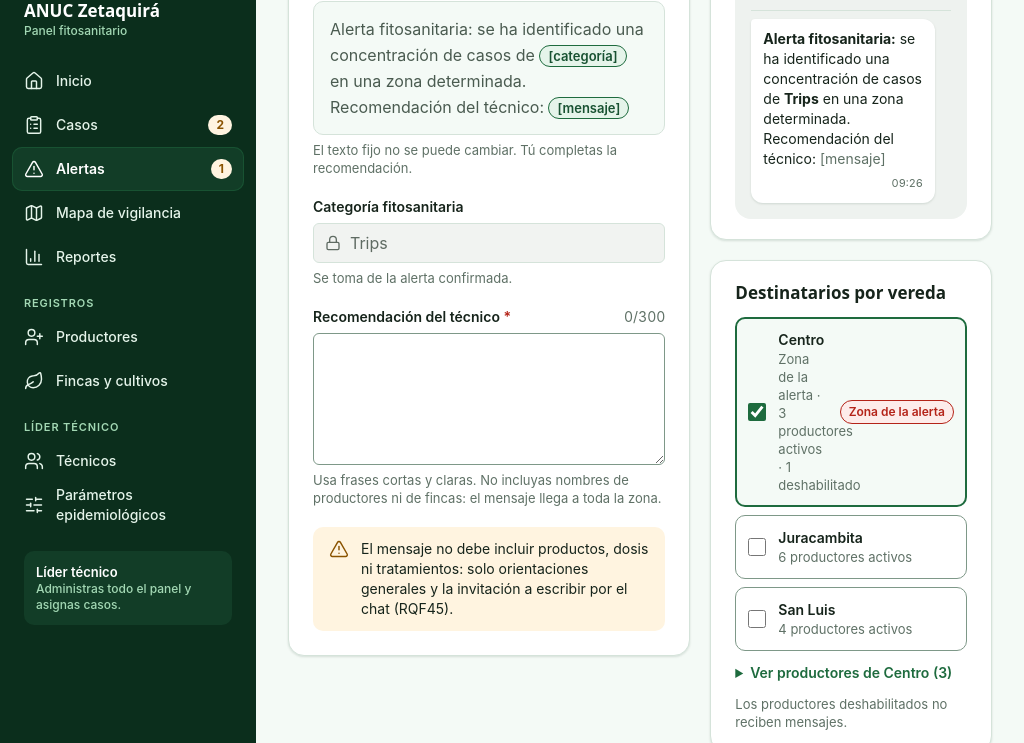
Mensaje a productores › pide la recomendación y no envía sin destinatarios
(page scrolled)
Step 1. Click the text box labelled "Recomendación del técnico *" → (489, 399), box [313,333,665,465]
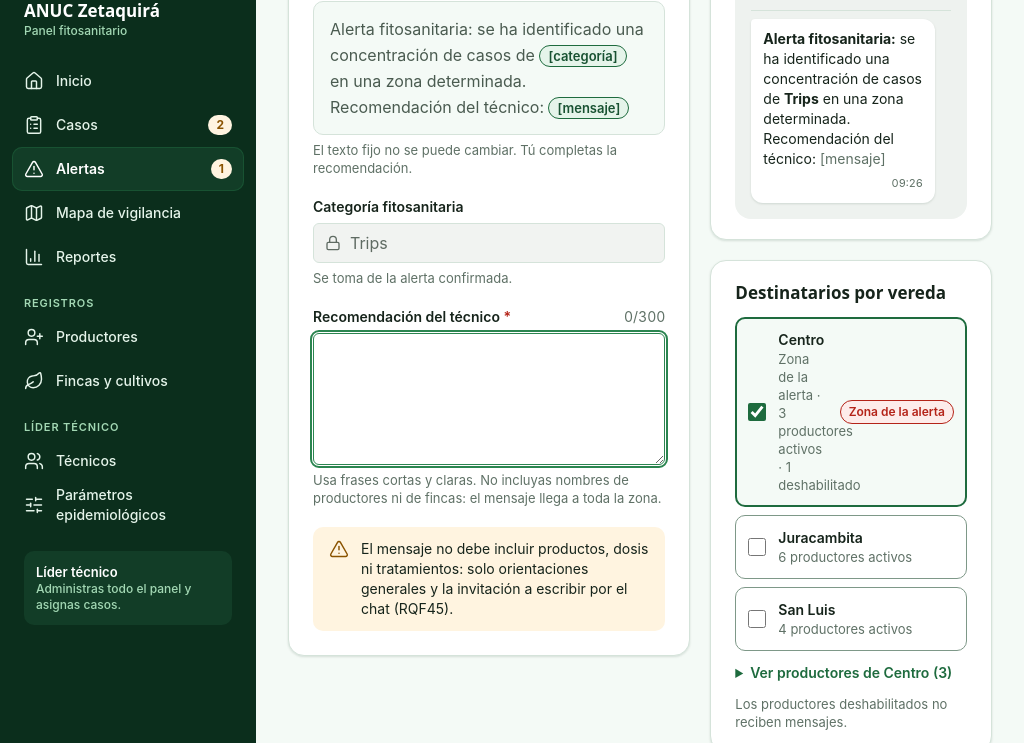
Step 2. Press Tab
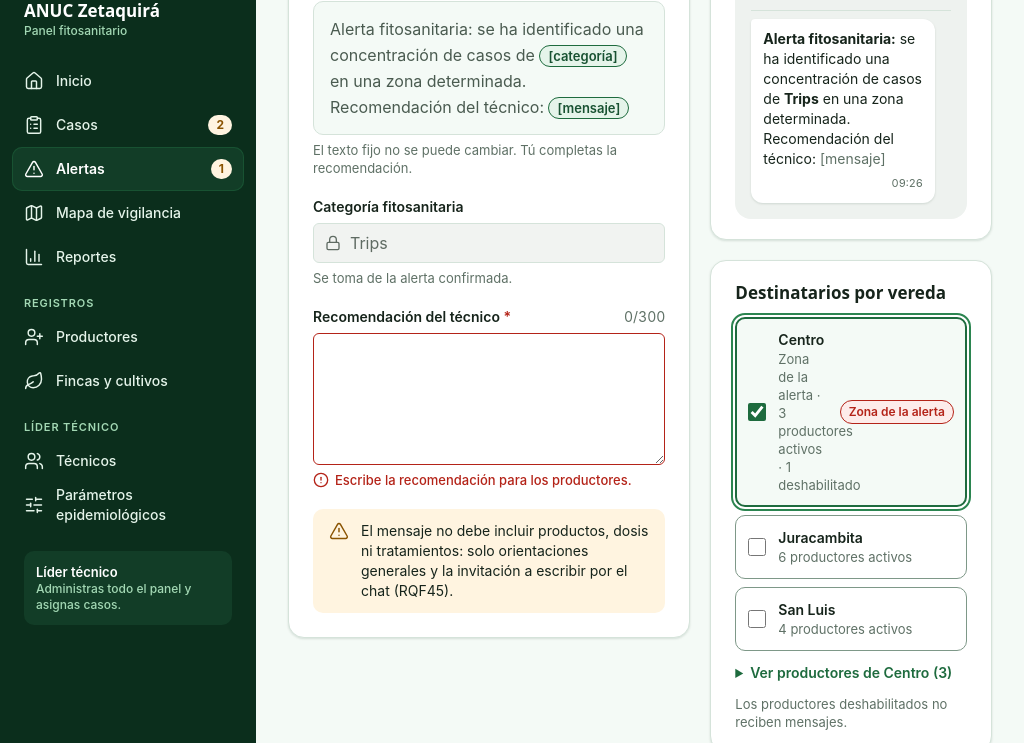
Result: the text "Escribe la recomendación para los productores." is shown at [313,471,665,489]
Step 3. Type "Revise flores y hojas nuevas en las mañanas y escríbanos por este chat." into the text box labelled "Recomendación del técnico *" → (489, 399), box [313,333,665,465]
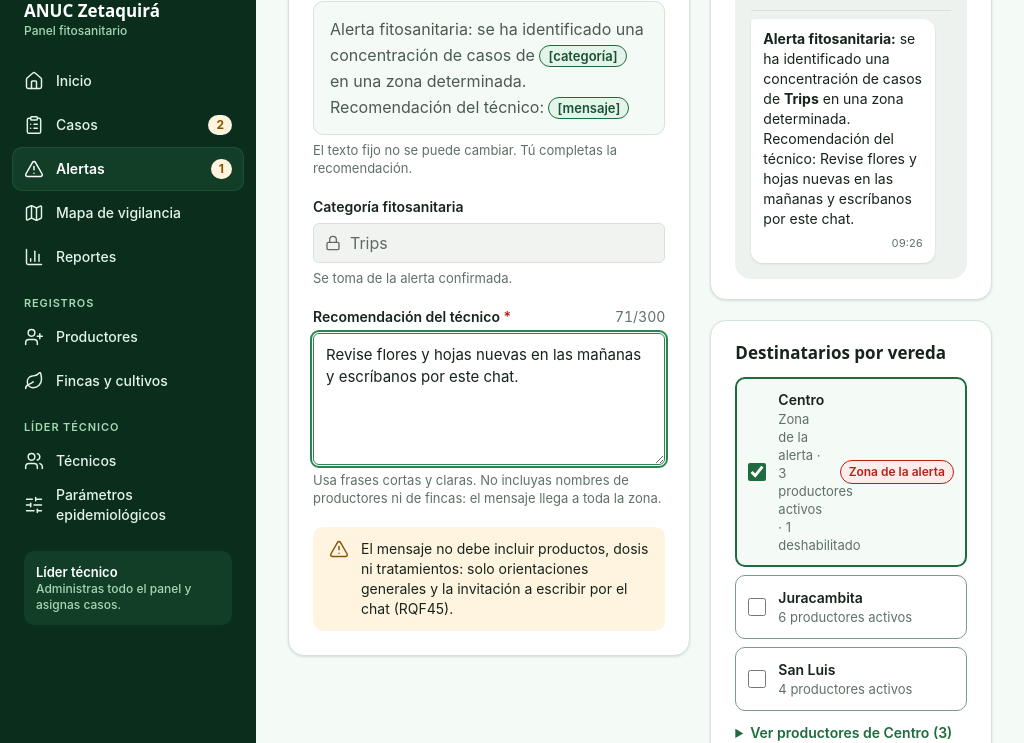
Step 4. Click the checkbox labelled "Centro" → (757, 472), box [748,463,766,481]
(page scrolled)
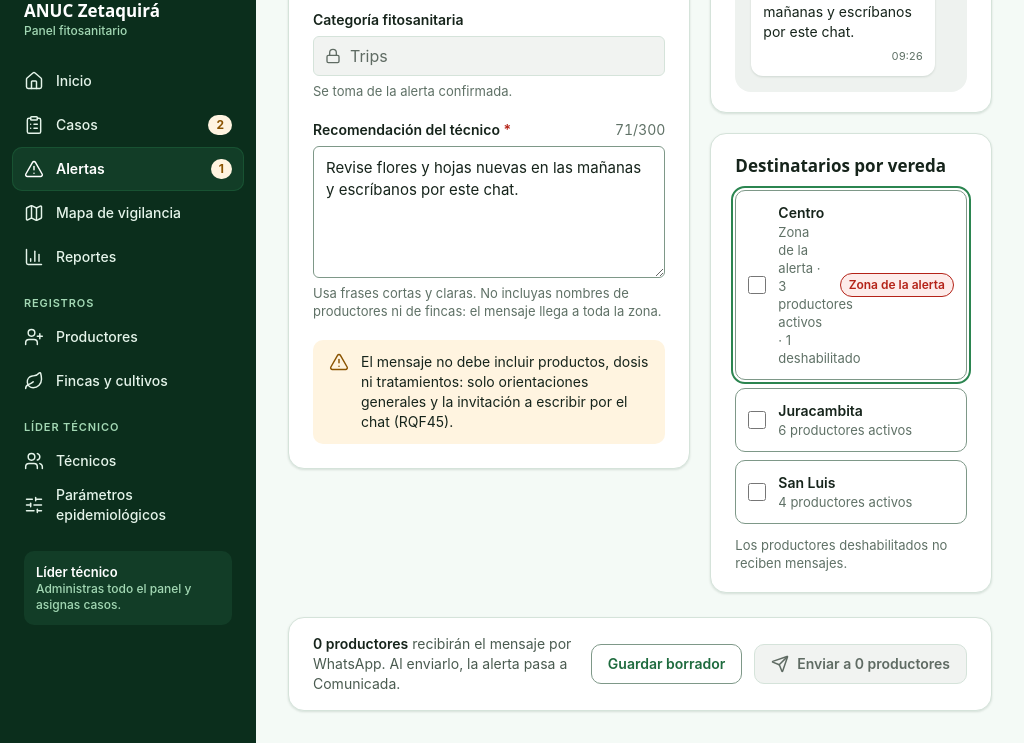
Result: the button "Enviar a 0 productores" is shown at [754,644,967,684]
Result: the button "Enviar a 0 productores" is disabled at [754,644,967,684]
